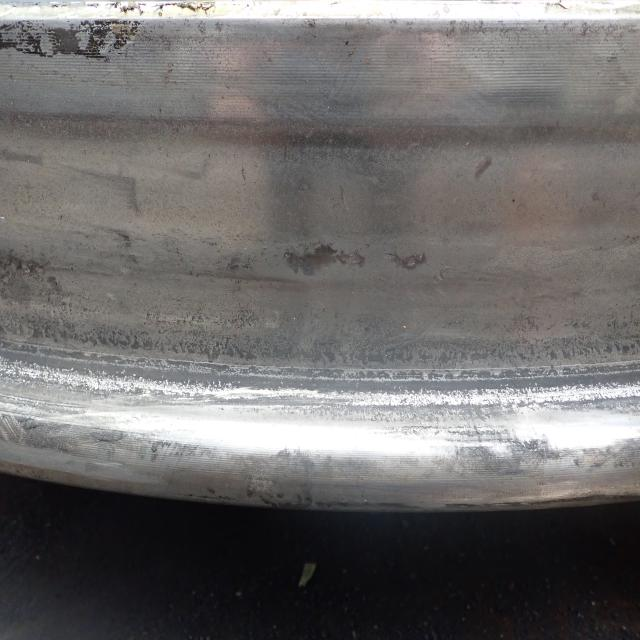Peeling: (281, 243, 365, 281), (385, 250, 430, 274), (11, 27, 42, 60), (47, 26, 80, 53), (86, 27, 110, 58)
